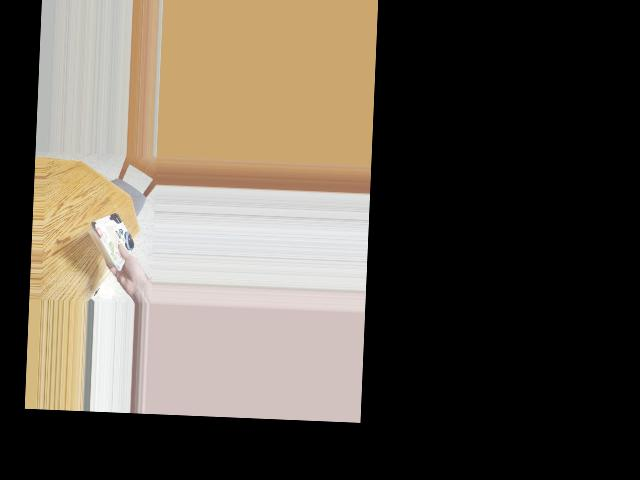cheese: (78, 207, 136, 267)
